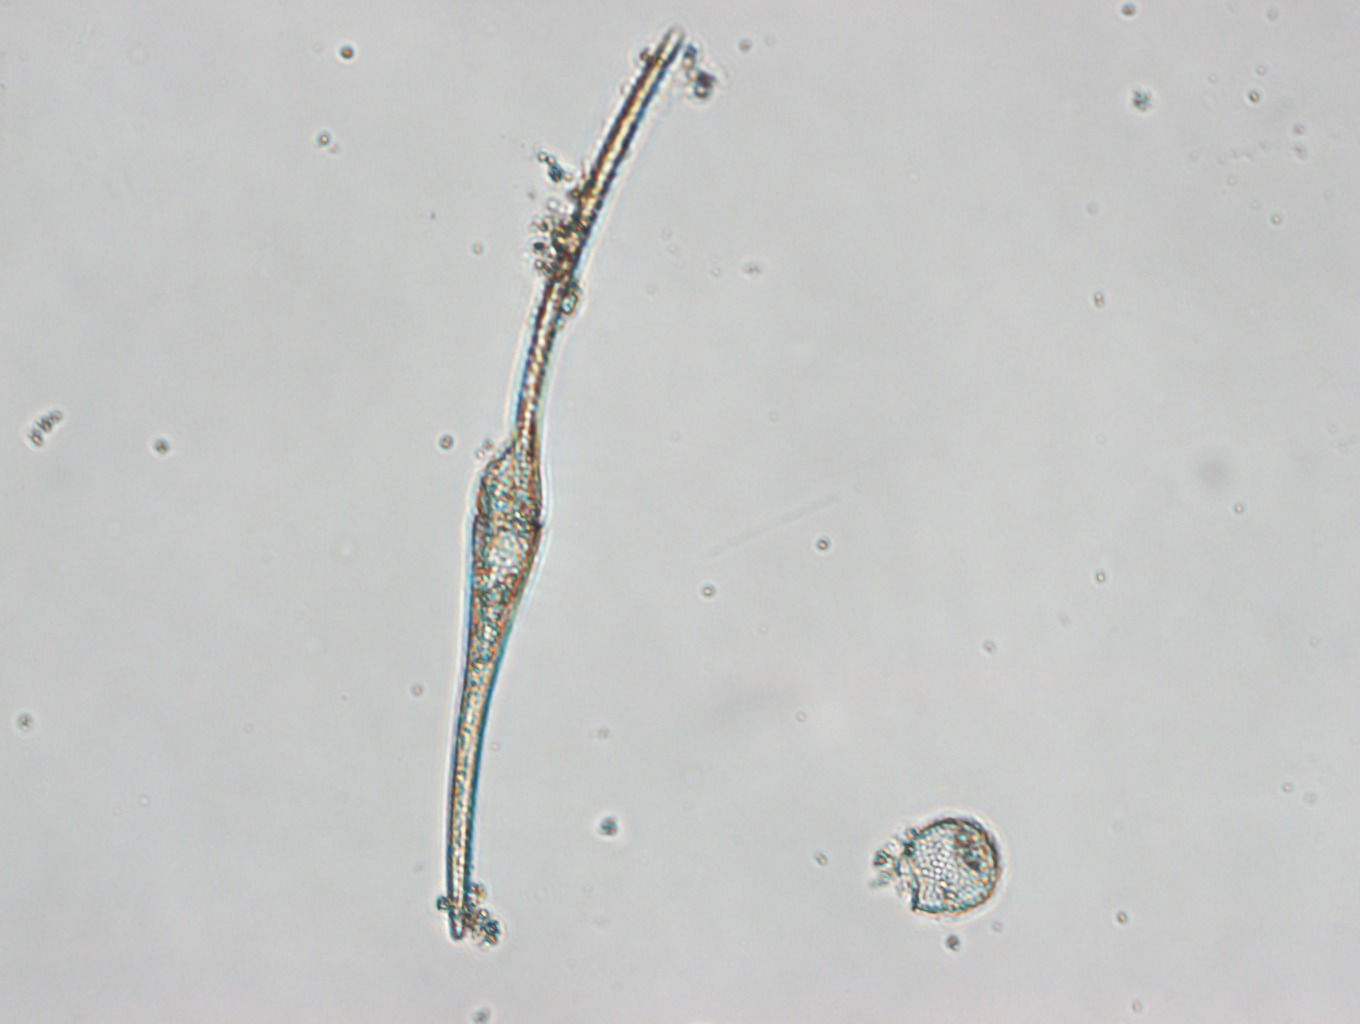ceratium fusus: (446, 26, 684, 942)
